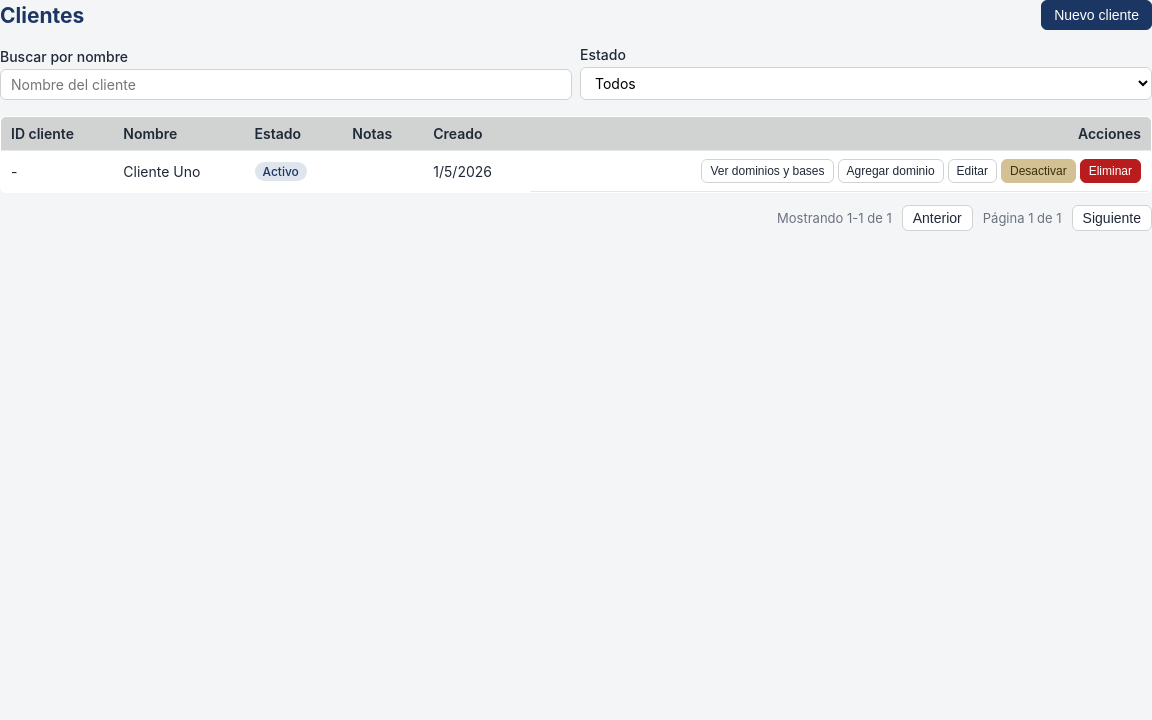
Test: ClientesPage › modal Editar cliente carga licencias actuales
Click the button "Editar" at {"x": 972, "y": 171}, box [948,159,997,183]
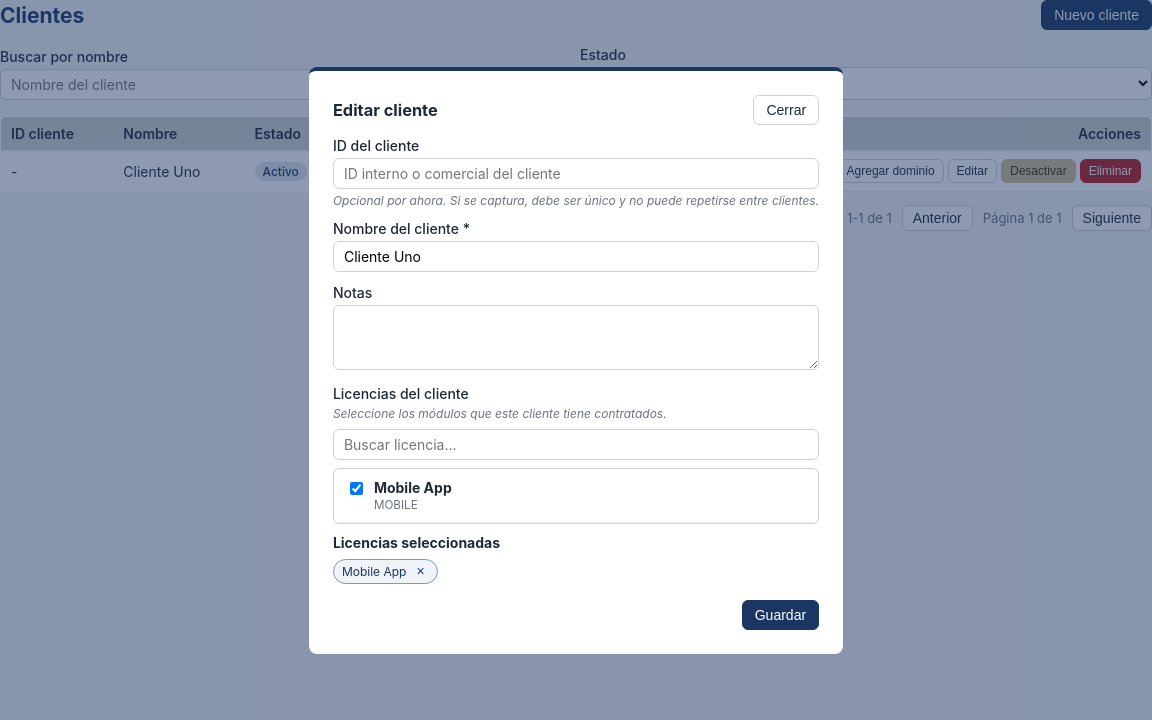
Expected: the checkbox labelled "Mobile App MOBILE" is checked, [350,482,363,494]
Expected: the text "Licencias seleccionadas" is shown, [333,534,500,550]
